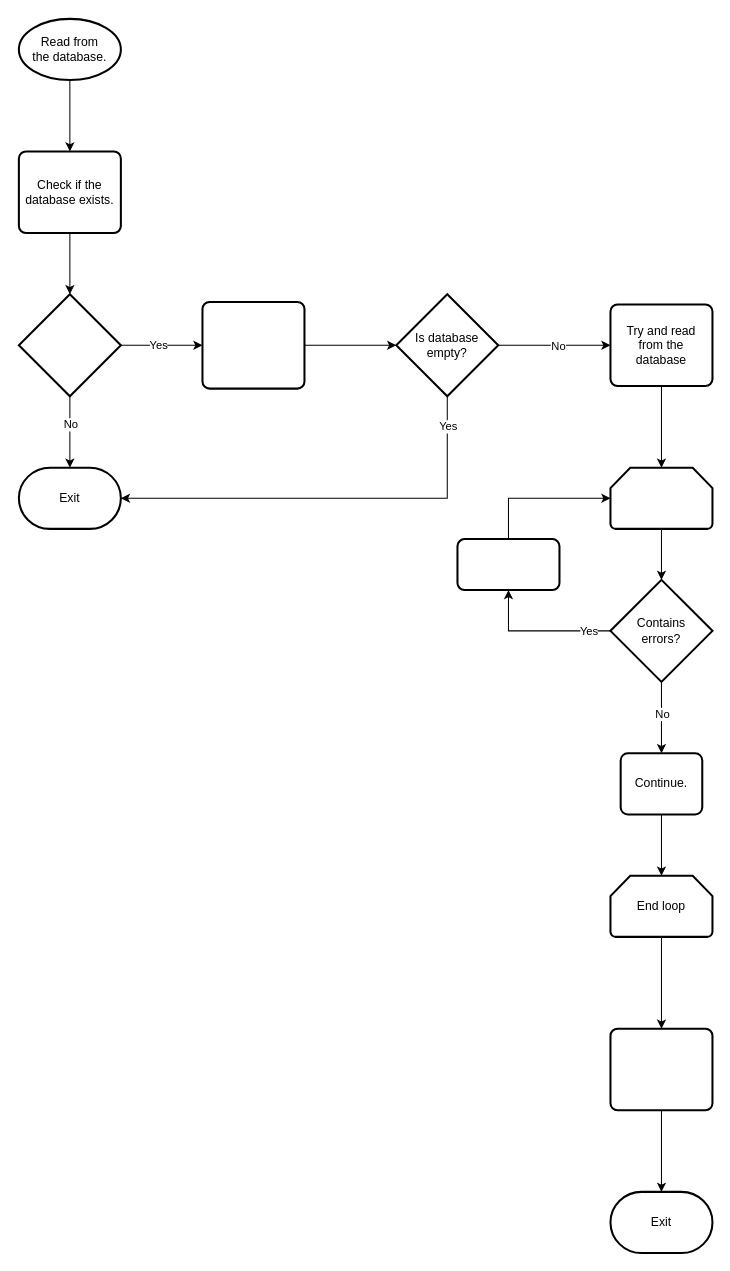
This 730x1271 diagram has some shape labels left out. The centre of each missing label's shape, as x and y in pixels:
Check if the database isn't empty.: the point at 253,344
Database exists?: the point at 69,345
For account in database, do...: the point at 661,497
Output results.: the point at 661,1069
Remove from list.: the point at 508,564
